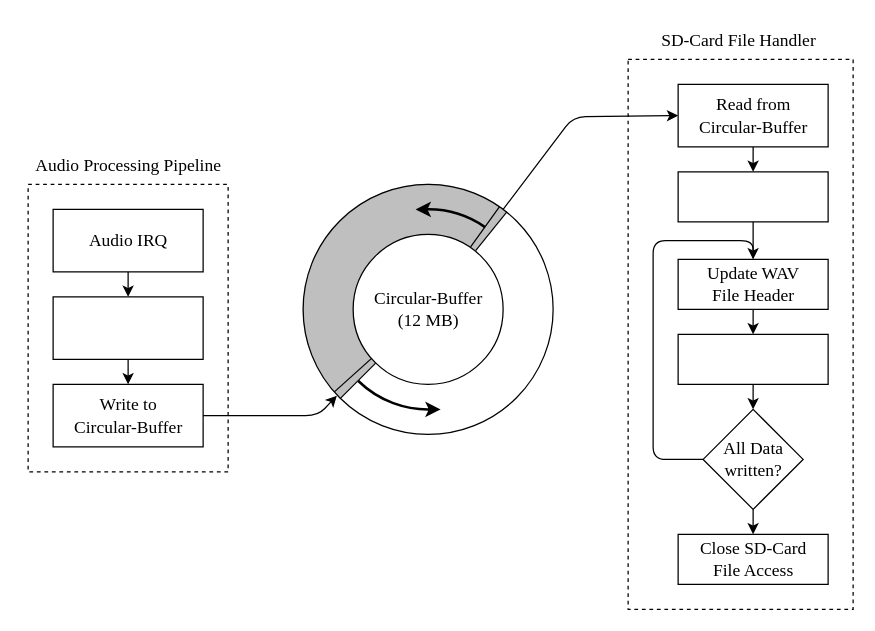
The diagram is 875 pixels wide and 631 high, and some of its shapes have lost their labels. The shapes that lost their labels are listed below. From the top down, each one's centre as x and y in pixels, then its label:
point 752,196: Open SD-Card File Access
point 127,327: Channel Interleaving
point 752,358: Write Audio Data Chunk
